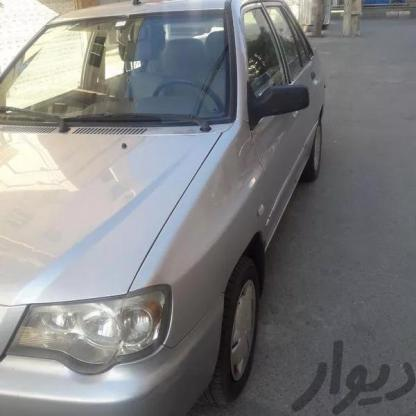Car: (0, 0, 329, 416)
